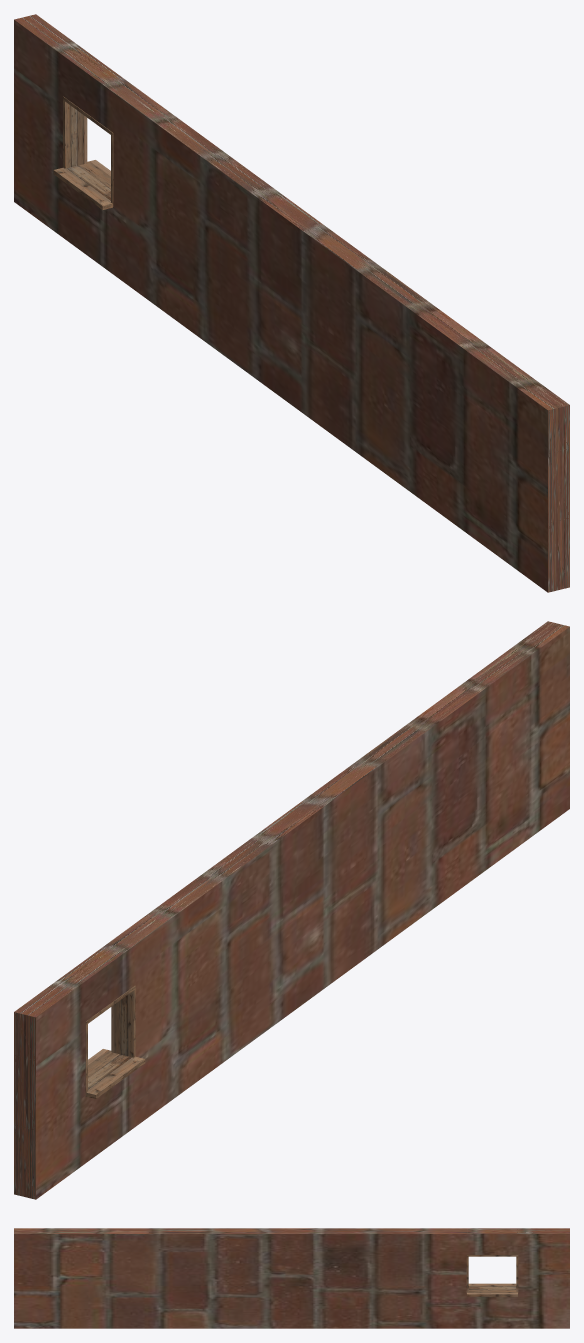
Rendered from BackWall.fbx.
3 renders of one model, top to bottom at view 1: azimuth 30°, elevation 25°; view 2: azimuth 150°, elevation 25°; view 3: azimuth 270°, elevation 25°, orthographic. The views are drawn at different scales.
Parts seen in each view (by area): view 1: Wood.006; view 2: Wood.006; view 3: Wood.006.
Boxes of the visible parts, x1,y1,x2,y2 form: Wood.006: (14,14,569,592); Wood.006: (14,621,569,1199); Wood.006: (14,1228,569,1328).
Bounding box in the file's own units: 413 × 1709 × 9071.
5 materials, 5 textured.
